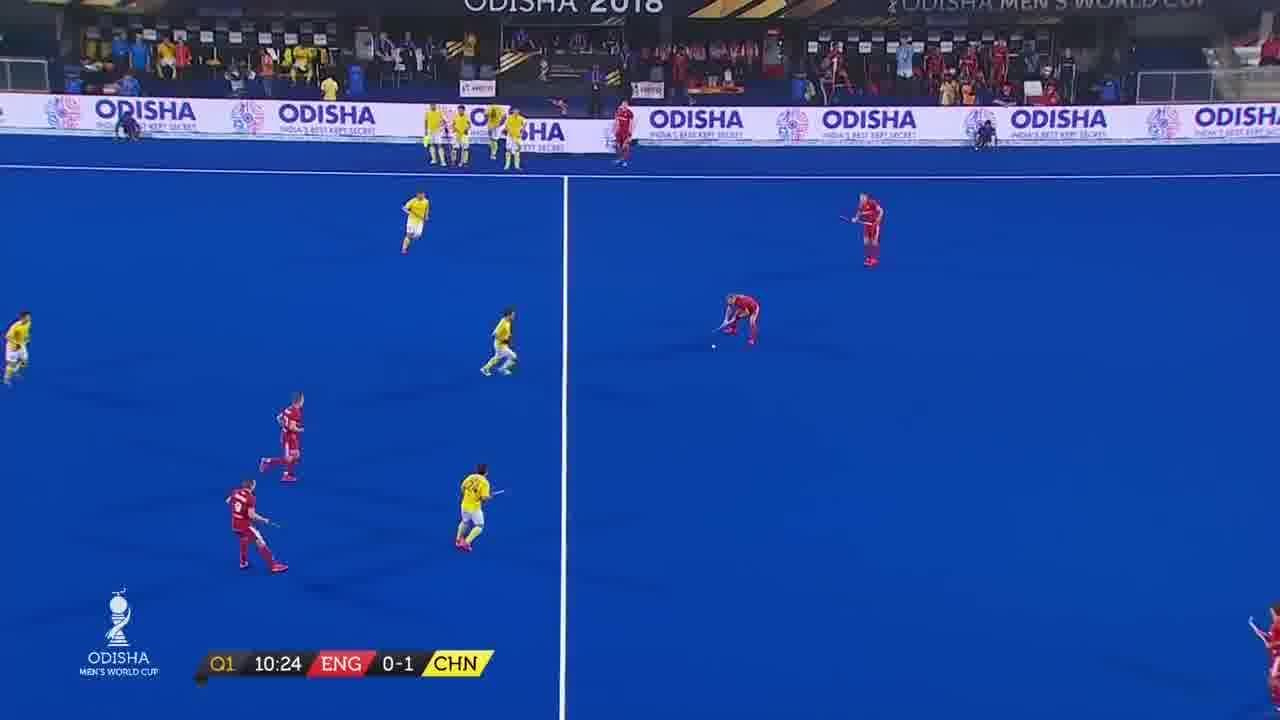ball: (704, 338, 719, 356)
